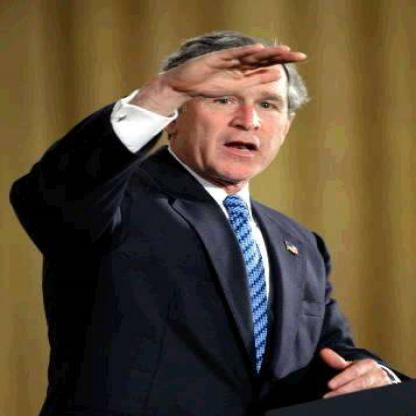face: (176, 39, 300, 183)
